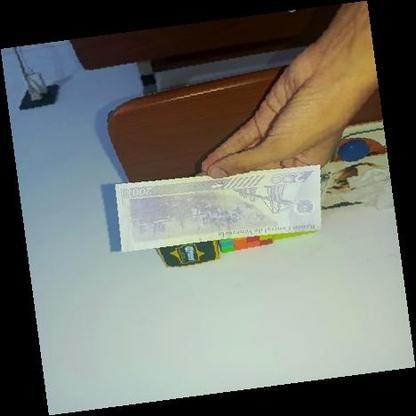two_hundred-back-vef: (113, 164, 323, 254)
